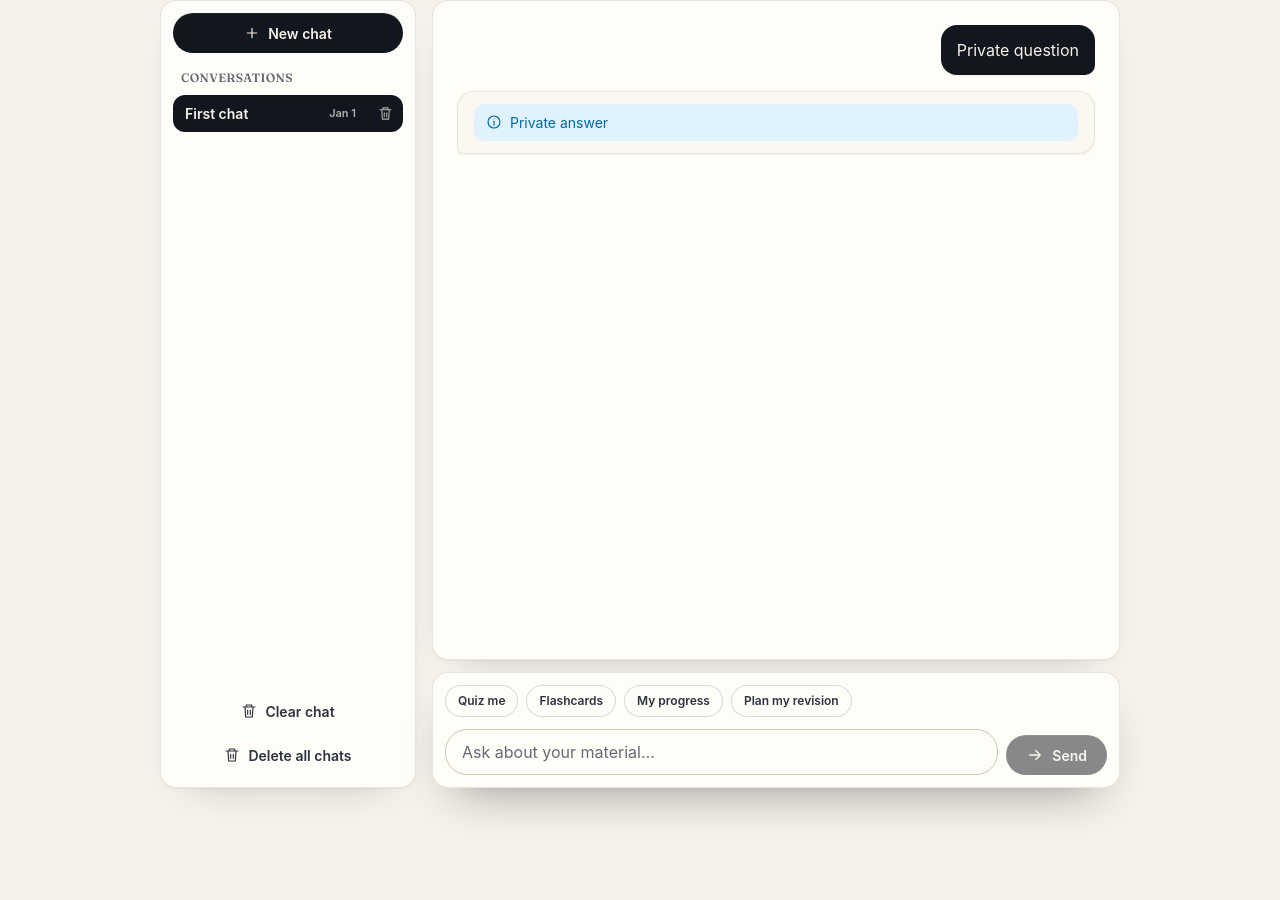
Test: clears the active conversation only after typing CLEAR to confirm
Expected: the text "Private question" is shown, [957,37,1079,63]
Click the button "Clear chat". click: (288, 711)
box: [173,691,403,731]
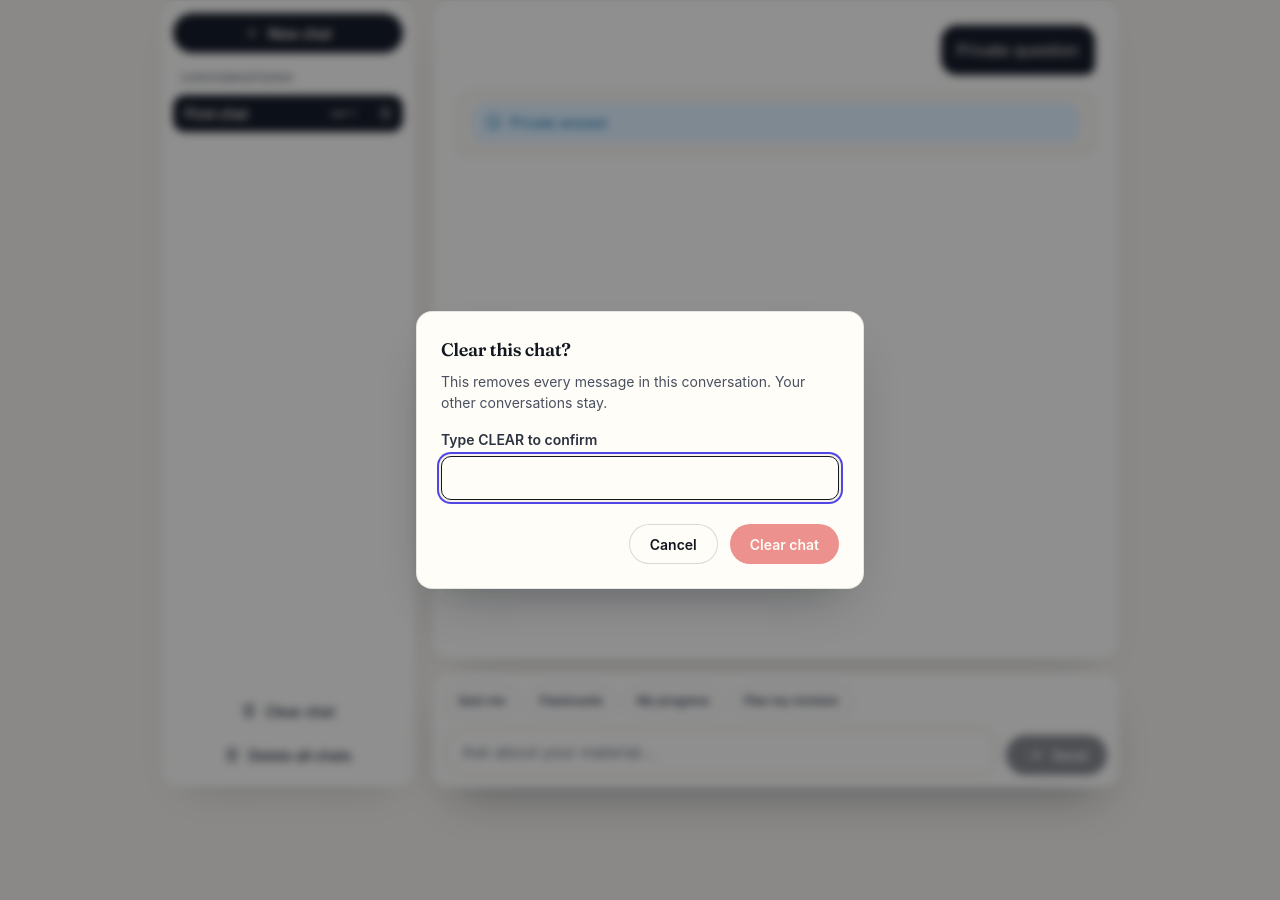
Result: the button "Clear chat" is disabled at [730,524,839,564]
Type "clear" into the field labelled "Type CLEAR to confirm". click: (640, 478)
box: [441,456,839,500]
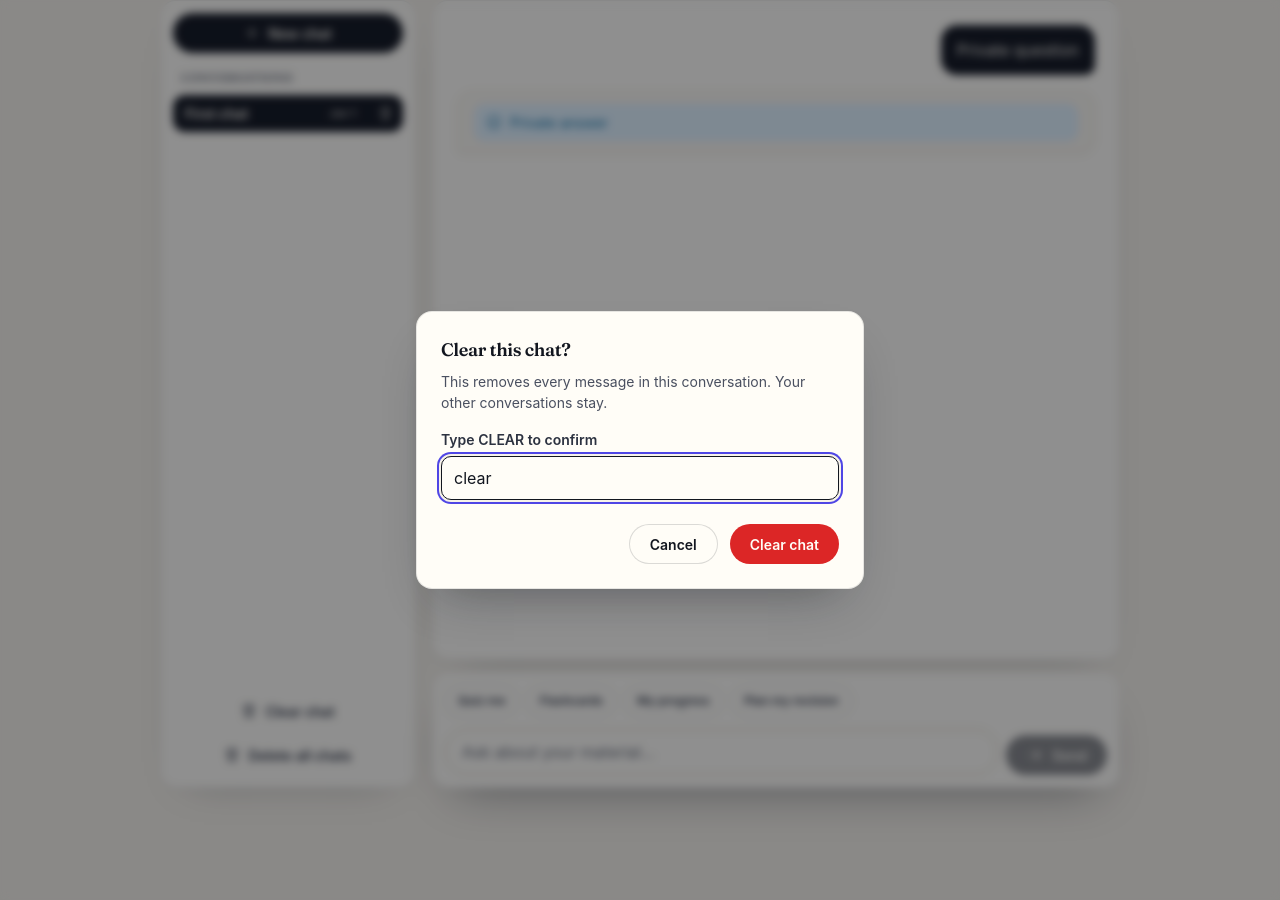
Click the button "Clear chat". click: (784, 544)
box: [730,524,839,564]
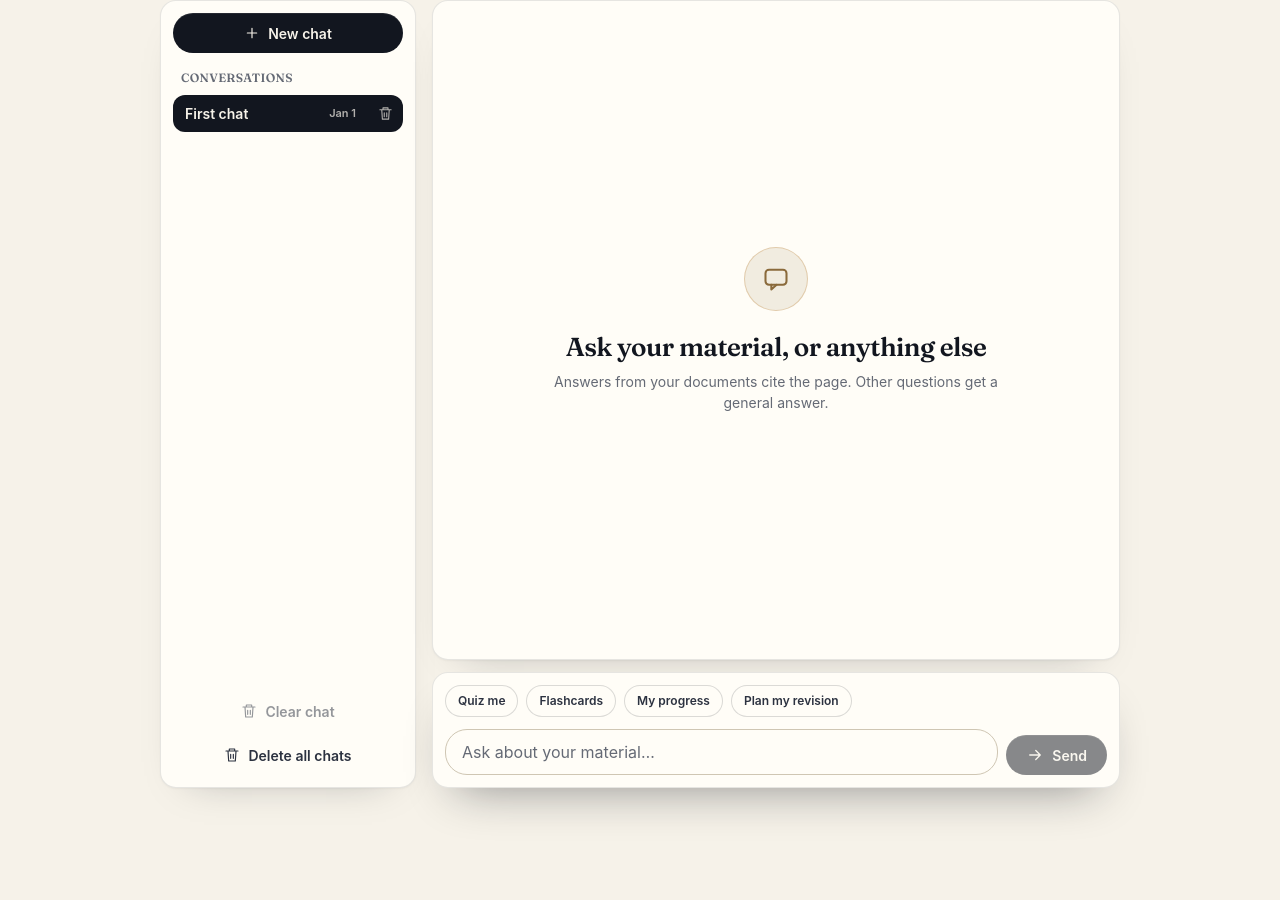
Expected: the text "First chat" is shown, [185,103,248,124]
Result: the heading "Ask your material, or anything else" is shown at [566,331,986,363]
